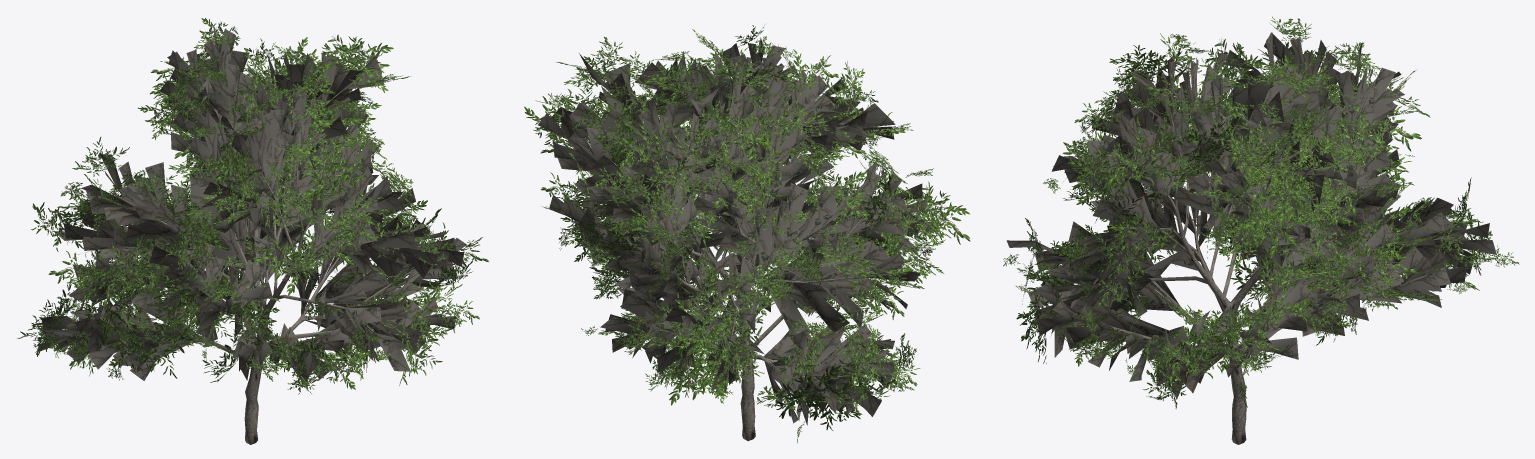
File: Peach_Low.fbx
3 renders of one model, left to right at view 1: azimuth 30°, elevation 25°; view 2: azimuth 150°, elevation 25°; view 3: azimuth 270°, elevation 25°, orthographic. The views are drawn at different scales.
Visible parts, largest first — view 1: Peach_Low; view 2: Peach_Low; view 3: Peach_Low.
Boxes of the visible parts, x1,y1,x2,y2 form: Peach_Low: [17, 18, 488, 444]; Peach_Low: [524, 25, 970, 443]; Peach_Low: [1003, 16, 1519, 444].
Bounding box in the file's own units: 701 × 627 × 707.
